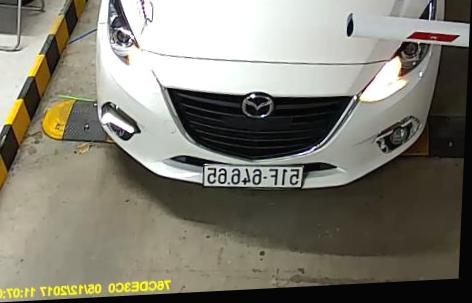License_Plate: (196, 157, 307, 195)
